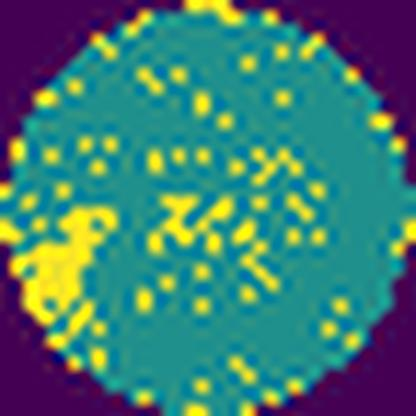Loc: (9, 204, 120, 327), (144, 192, 232, 258)
